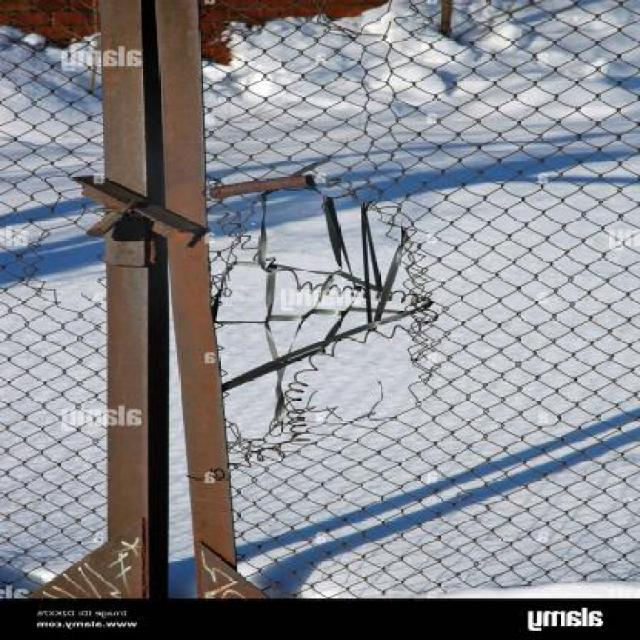fence line: (206, 183, 419, 446)
